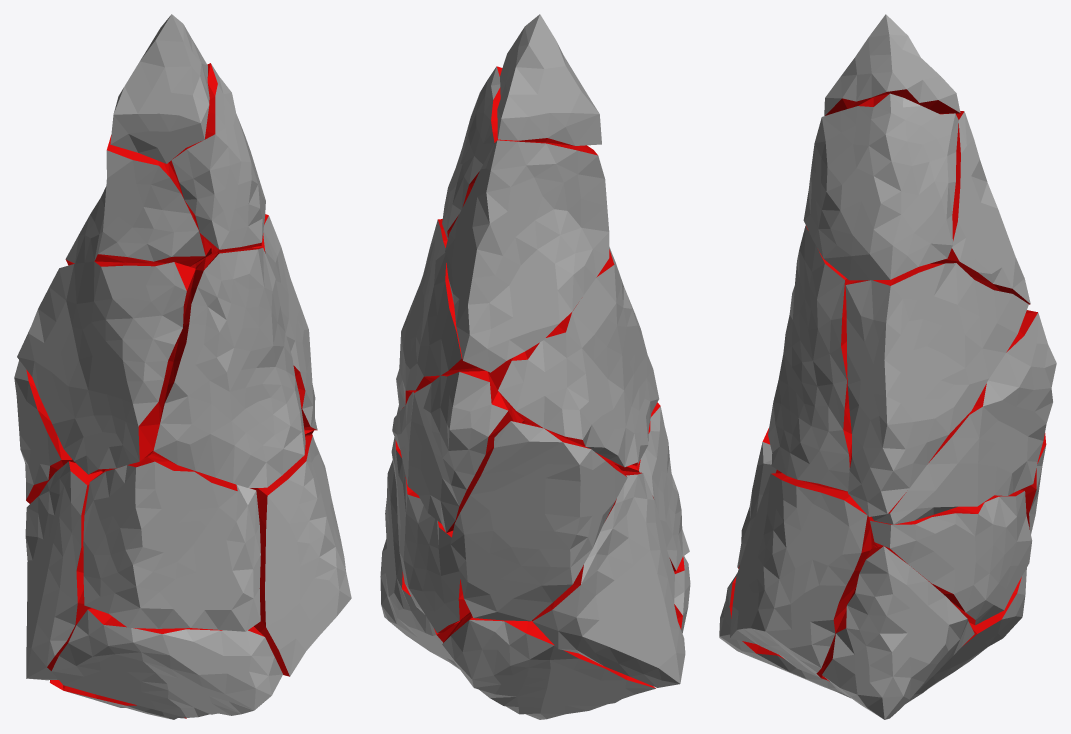
File: asteroid.fbx
The picture shows the model from 3 angles, left to right: view 1: azimuth 30°, elevation 25°; view 2: azimuth 150°, elevation 25°; view 3: azimuth 270°, elevation 25°; orthographic projection.
Visible parts, largest first — view 1: polySurface8, polySurface2, polySurface3, polySurface1, polySurface6, polySurface11, polySurface12, polySurface13, polySurface5, polySurface9, polySurface15, polySurface10; view 2: polySurface11, polySurface9, polySurface2, polySurface12, polySurface10, polySurface7, polySurface5, polySurface4, polySurface15, polySurface14, polySurface13, polySurface8 (+1 smaller); view 3: polySurface15, polySurface13, polySurface6, polySurface7, polySurface3, polySurface14, polySurface4, polySurface11, polySurface5, polySurface10, polySurface1, polySurface8 (+1 smaller).
Part boxes in pixels (bbox=[...]): polySurface8: bbox=[83, 453, 260, 631]; polySurface2: bbox=[17, 261, 195, 474]; polySurface3: bbox=[152, 247, 305, 487]; polySurface1: bbox=[51, 608, 282, 717]; polySurface6: bbox=[250, 434, 351, 676]; polySurface11: bbox=[65, 135, 212, 266]; polySurface12: bbox=[25, 461, 102, 680]; polySurface13: bbox=[169, 63, 265, 252]; polySurface5: bbox=[110, 14, 209, 163]; polySurface9: bbox=[14, 360, 104, 503]; polySurface15: bbox=[190, 214, 317, 430]; polySurface10: bbox=[50, 680, 186, 719]; polySurface11: bbox=[445, 140, 609, 372]; polySurface9: bbox=[450, 421, 627, 621]; polySurface2: bbox=[488, 247, 659, 467]; polySurface12: bbox=[532, 470, 685, 687]; polySurface10: bbox=[442, 613, 655, 719]; polySurface7: bbox=[392, 371, 526, 532]; polySurface5: bbox=[497, 14, 601, 145]; polySurface4: bbox=[391, 437, 470, 633]; polySurface15: bbox=[396, 219, 485, 414]; polySurface14: bbox=[380, 460, 459, 669]; polySurface13: bbox=[442, 66, 530, 239]; polySurface8: bbox=[615, 402, 689, 571]; polySurface15: bbox=[845, 263, 1028, 516]; polySurface13: bbox=[803, 93, 958, 280]; polySurface6: bbox=[730, 473, 872, 679]; polySurface7: bbox=[871, 310, 1056, 524]; polySurface3: bbox=[768, 225, 852, 491]; polySurface14: bbox=[822, 546, 974, 719]; polySurface4: bbox=[869, 490, 1032, 625]; polySurface11: bbox=[930, 111, 1030, 304]; polySurface5: bbox=[824, 14, 960, 115]; polySurface10: bbox=[906, 568, 1026, 703]; polySurface1: bbox=[719, 573, 850, 698]; polySurface8: bbox=[737, 428, 781, 568].
Bounding box in the file's own units: 1640 × 3658 × 1610.
